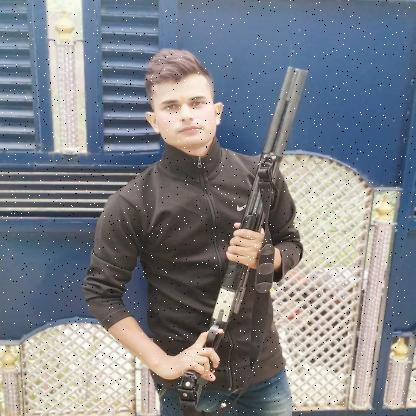rifle: (174, 64, 312, 412)
